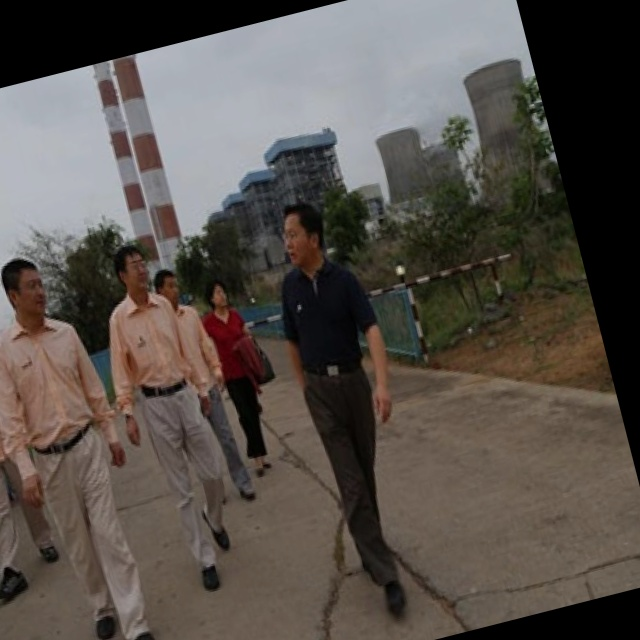Sin_Casco_Mascarrilla: (274, 196, 329, 266), (0, 253, 51, 325), (111, 242, 154, 299)
